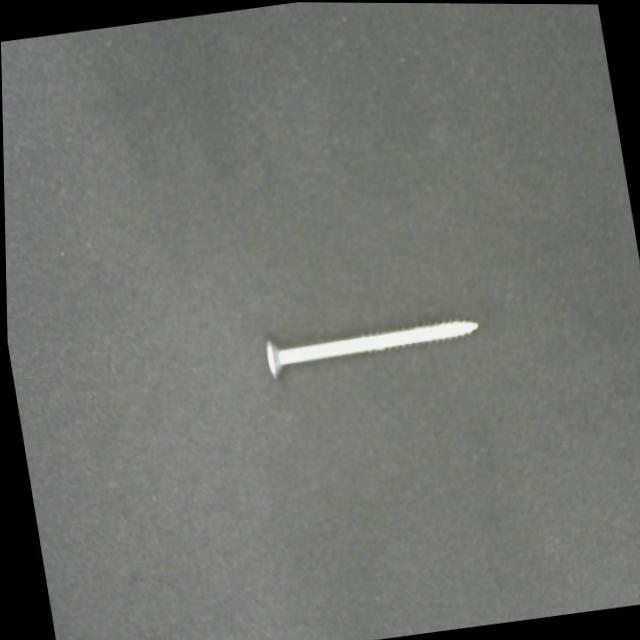WoodScrew: (260, 308, 483, 384)
